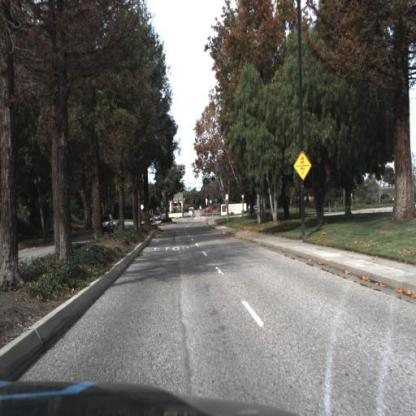biker: (189, 206, 197, 224)
car: (95, 214, 118, 238), (99, 213, 116, 234)
